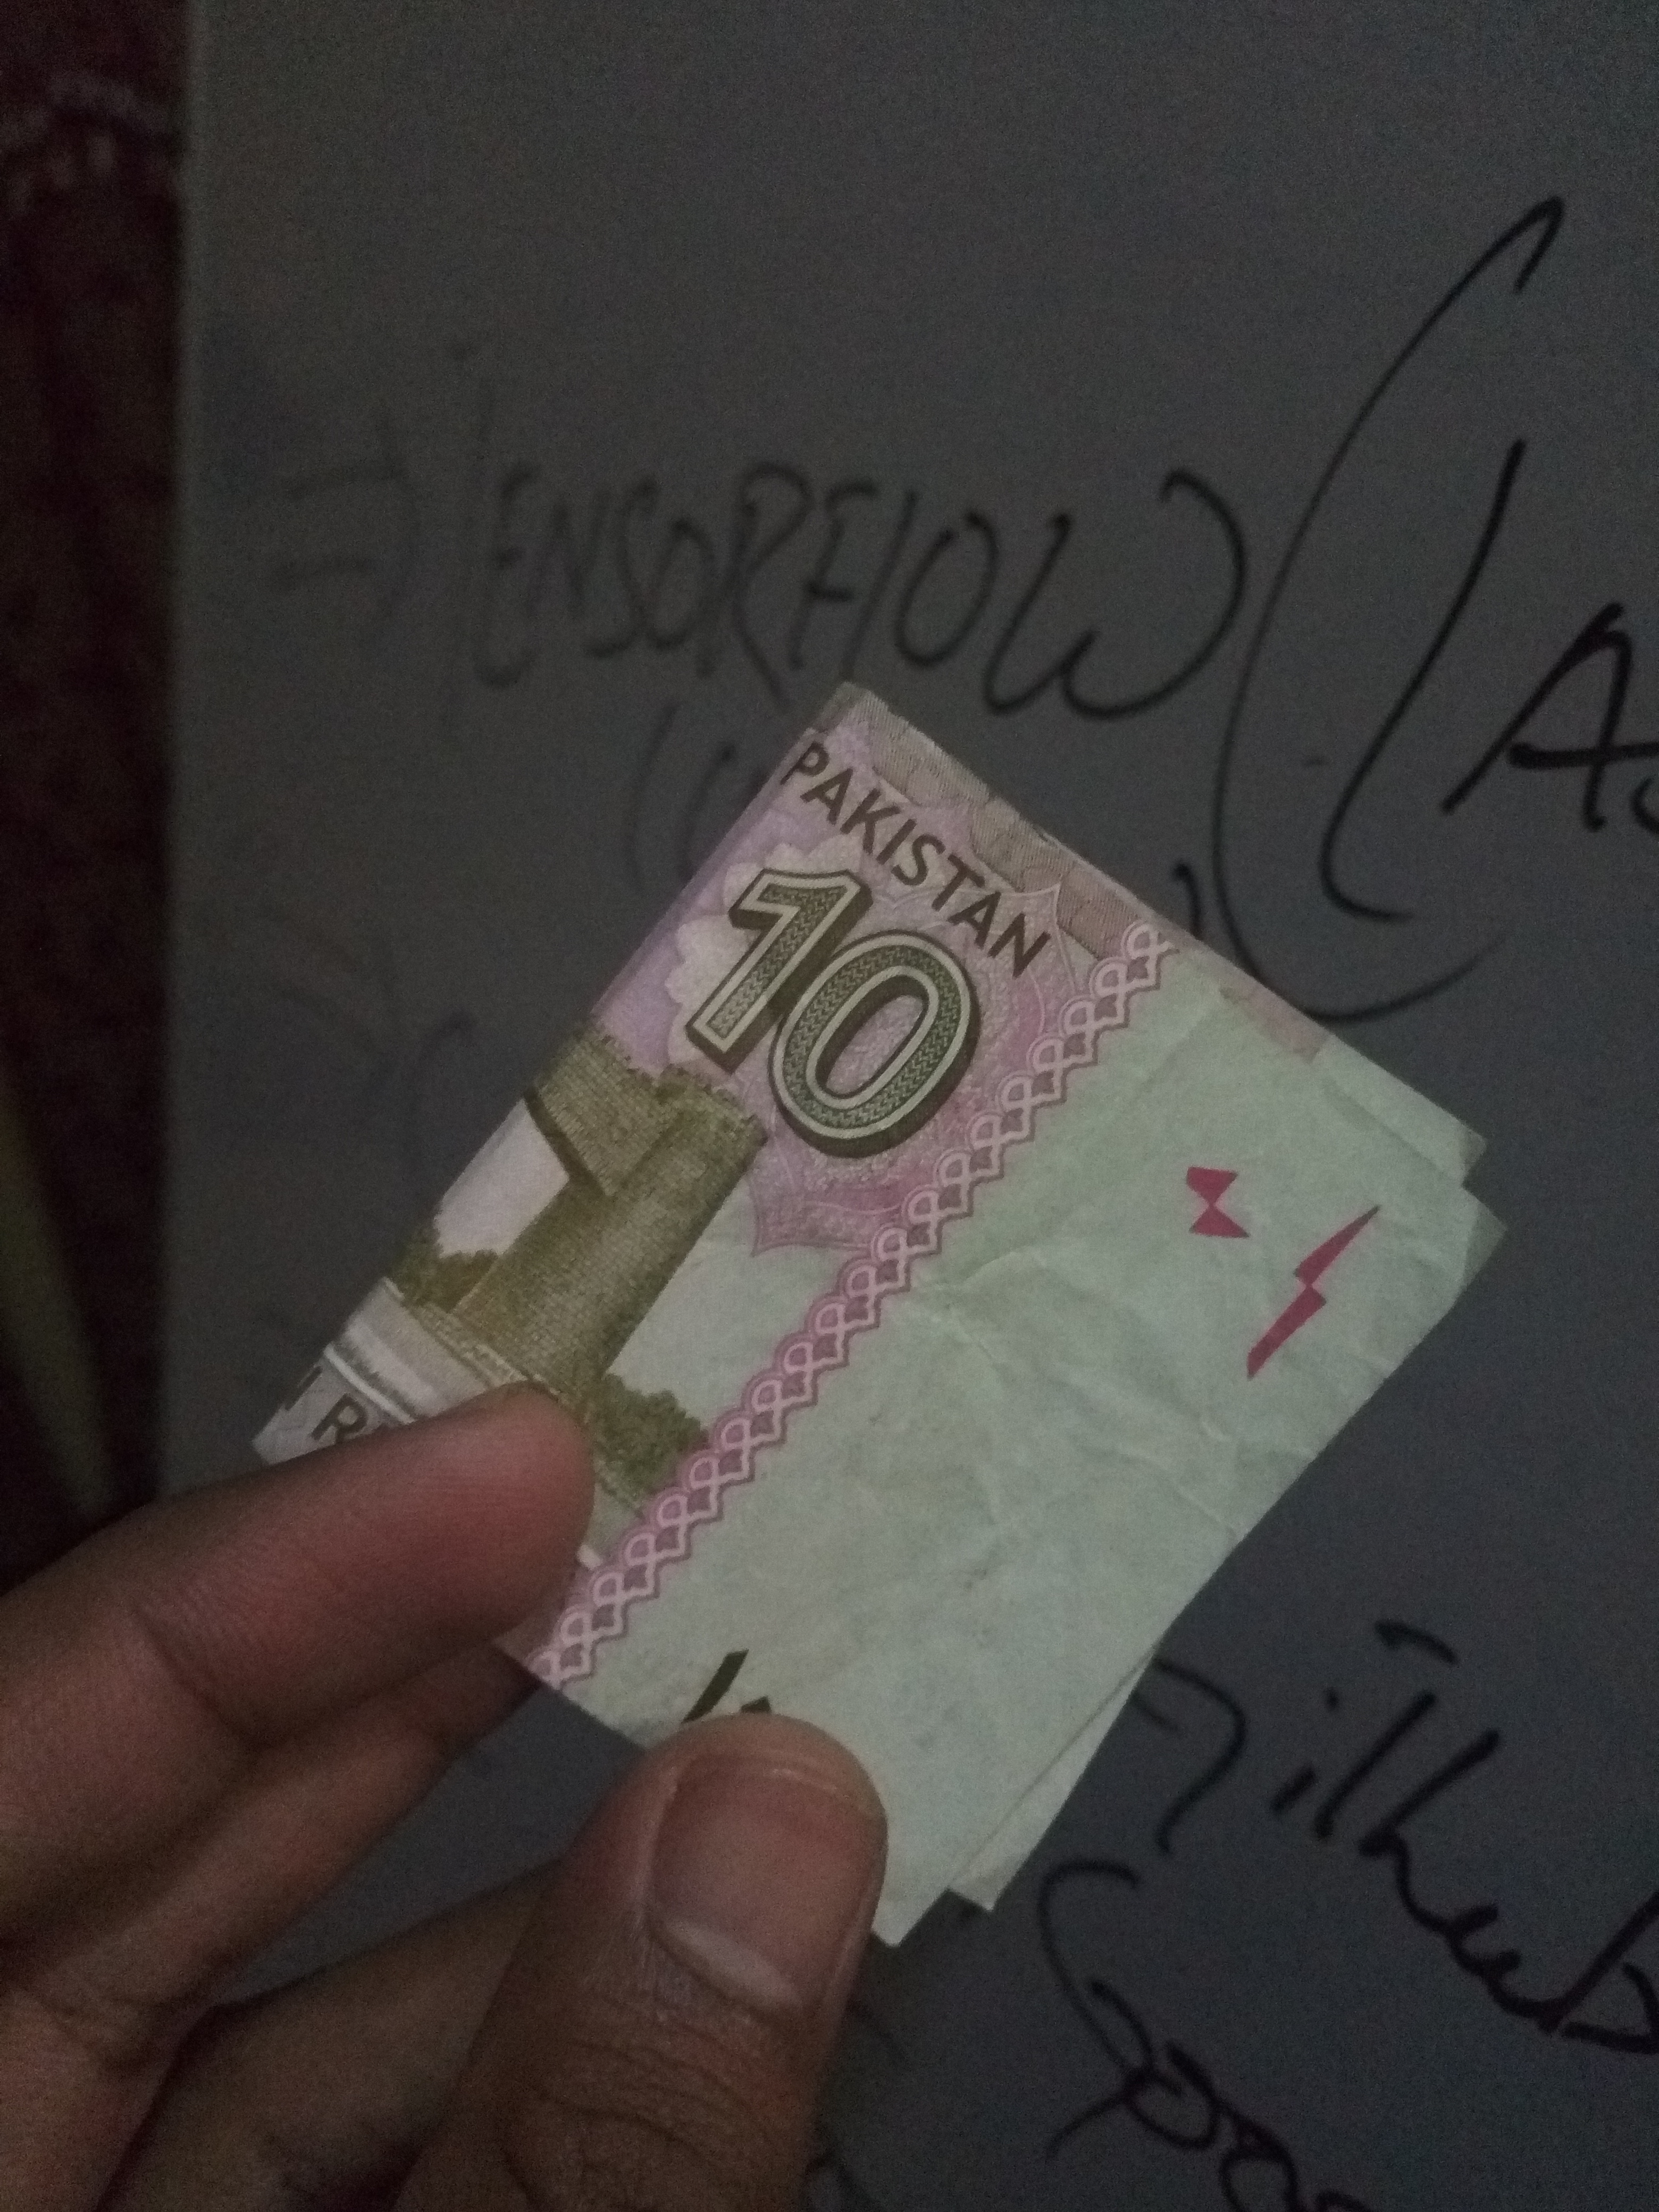10 rupee: (209, 686, 1441, 2000)
